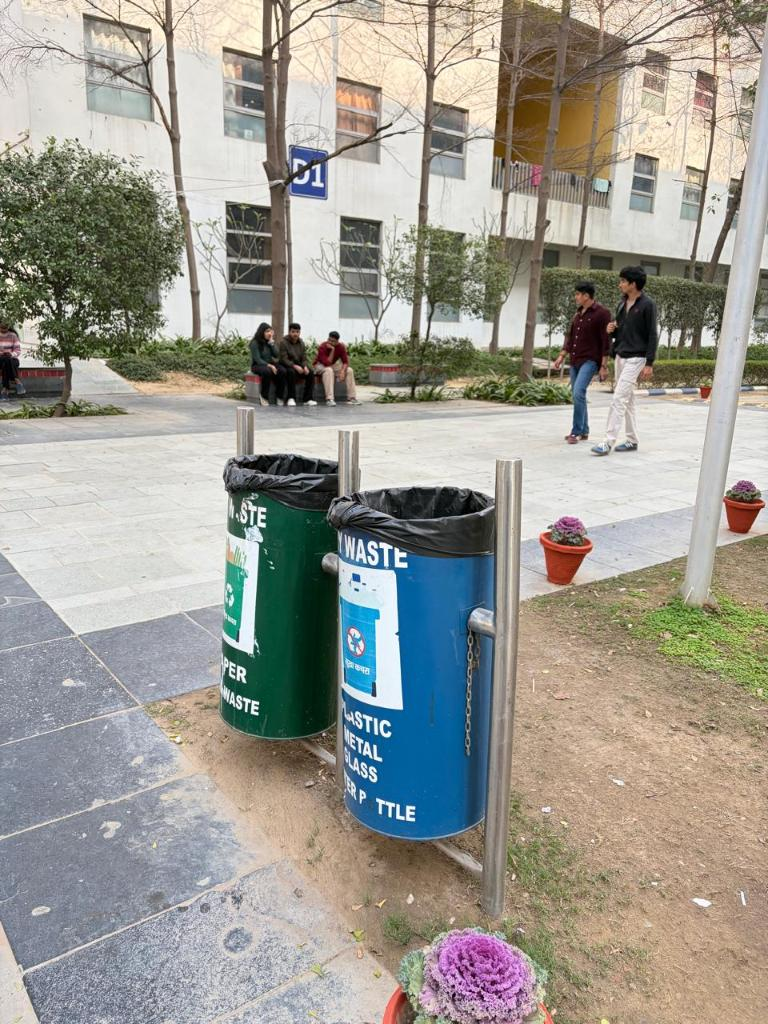dustbin: (207, 408, 516, 870)
